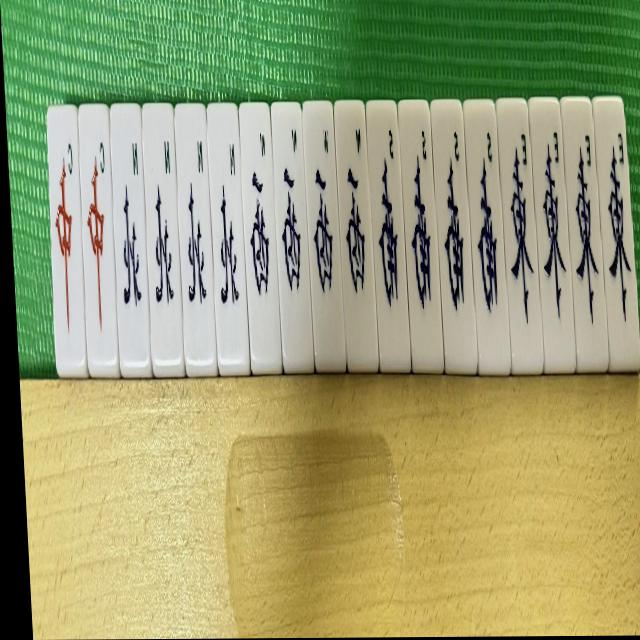east: (598, 108, 637, 350), (566, 112, 605, 352), (534, 112, 572, 336), (502, 119, 539, 346)
north: (175, 111, 216, 360), (111, 119, 150, 347), (143, 111, 181, 338), (210, 114, 247, 347)
south: (435, 109, 473, 345), (370, 120, 408, 341), (402, 120, 439, 331), (471, 119, 505, 337)
west: (272, 114, 312, 345), (241, 117, 279, 353), (305, 117, 343, 348), (337, 120, 374, 350)
zhong: (81, 122, 119, 359)
